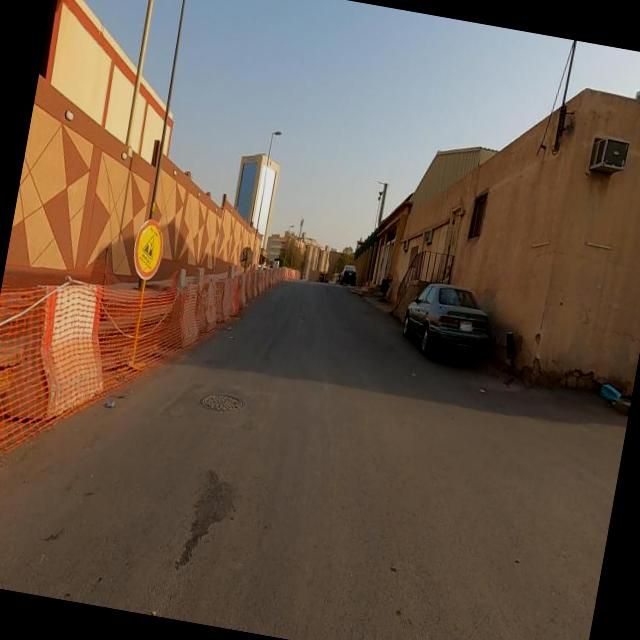debris: (557, 329, 640, 452)
